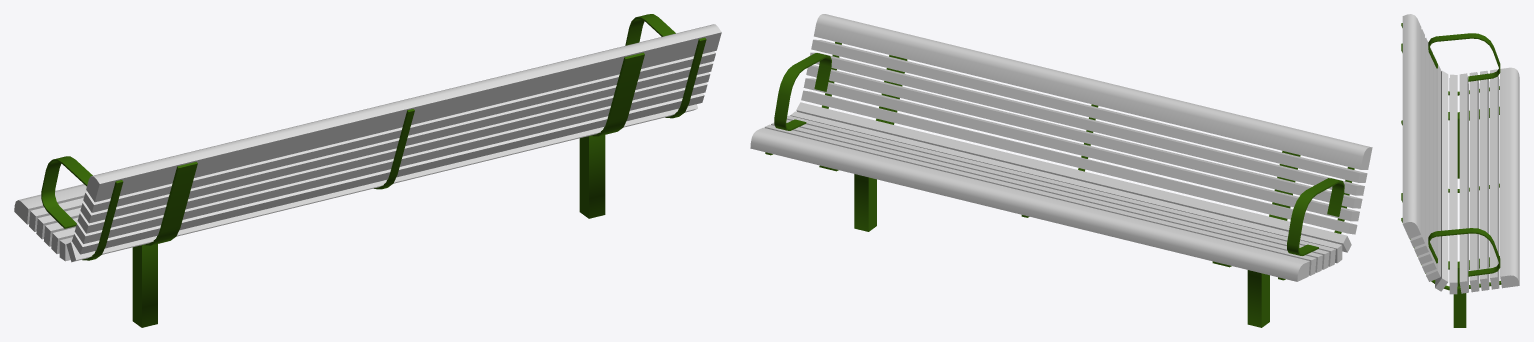
3 renders of one model, left to right at view 1: azimuth 30°, elevation 25°; view 2: azimuth 150°, elevation 25°; view 3: azimuth 270°, elevation 25°, orthographic. The views are drawn at different scales.
Visible parts, largest first — view 1: mesh1_mesh1-geometry, mesh3_mesh3-geometry, mesh5_mesh5-geometry, mesh9_mesh9-geometry, mesh7_mesh7-geometry; view 2: mesh1_mesh1-geometry, mesh3_mesh3-geometry, mesh9_mesh9-geometry, mesh5_mesh5-geometry; view 3: mesh1_mesh1-geometry, mesh3_mesh3-geometry, mesh9_mesh9-geometry, mesh5_mesh5-geometry, mesh7_mesh7-geometry.
Part boxes in pixels (x1,y1,x2,y2): mesh1_mesh1-geometry: [29, 51, 715, 262]; mesh3_mesh3-geometry: [14, 24, 721, 224]; mesh5_mesh5-geometry: [132, 52, 644, 327]; mesh9_mesh9-geometry: [41, 14, 675, 228]; mesh7_mesh7-geometry: [82, 37, 706, 260]; mesh1_mesh1-geometry: [764, 39, 1367, 275]; mesh3_mesh3-geometry: [750, 14, 1372, 281]; mesh9_mesh9-geometry: [774, 53, 1344, 255]; mesh5_mesh5-geometry: [819, 55, 1300, 327]; mesh1_mesh1-geometry: [1410, 29, 1499, 294]; mesh3_mesh3-geometry: [1402, 14, 1519, 288]; mesh9_mesh9-geometry: [1428, 33, 1500, 276]; mesh5_mesh5-geometry: [1401, 43, 1499, 327]; mesh7_mesh7-geometry: [1401, 23, 1501, 290].
Size of the model in its own units: 0.9338 by 0.278 by 0.225.
